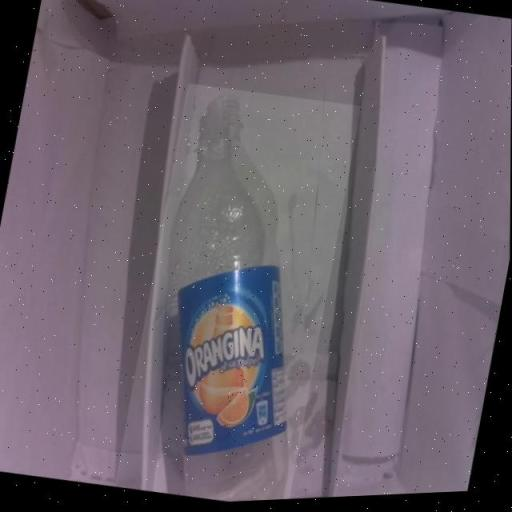plastic: (115, 78, 361, 508)
